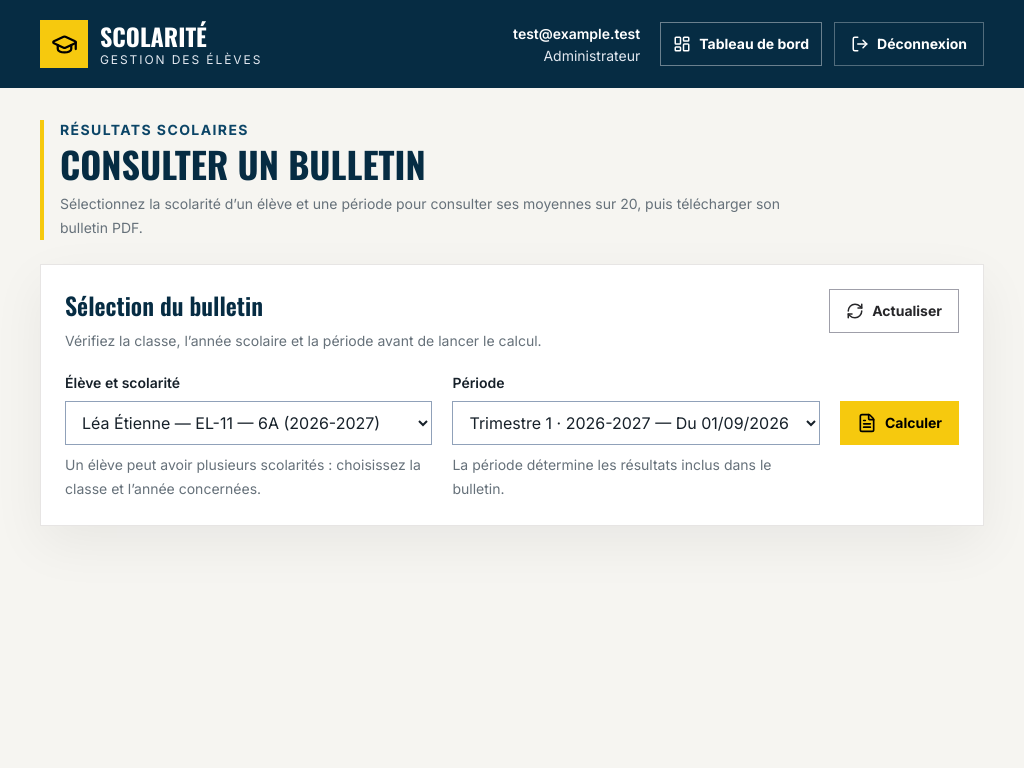
it: bulletins › affiche les valeurs absentes sans inventer de moyenne
The image size is (1024, 768).
Click the button "Calculer". click: (899, 423)
box: [840,401,959,445]
(page scrolled)
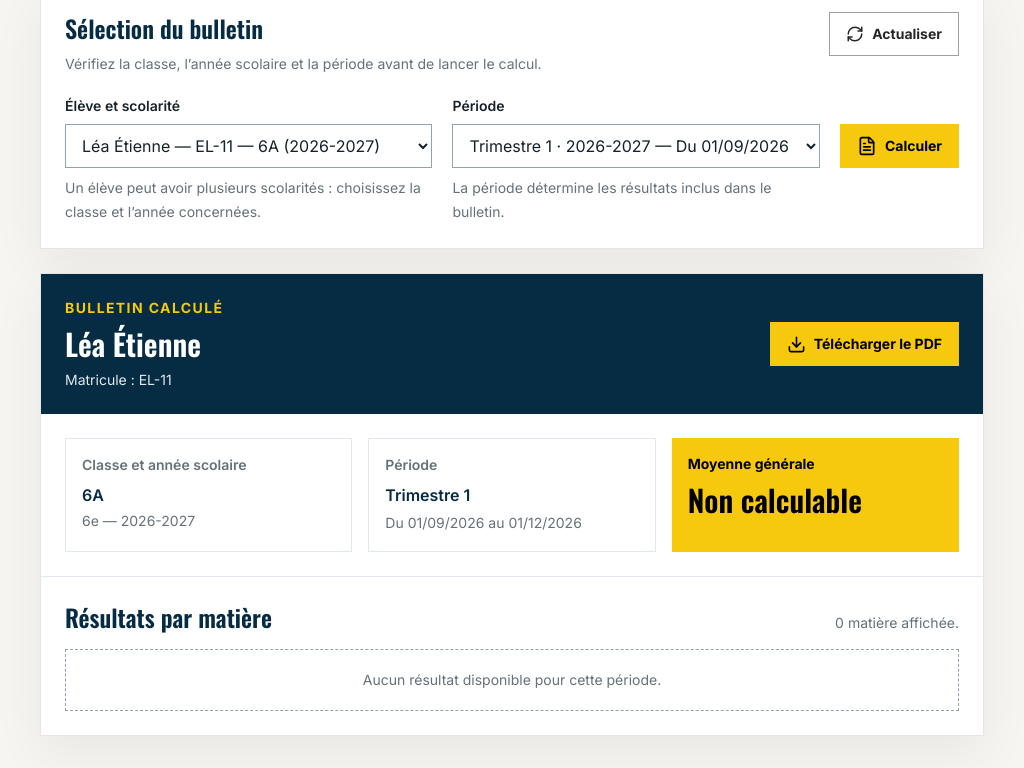
Check: the heading "Léa Étienne" is shown, box [65,326,224,362]
Check: the text "Non calculable" is shown, box [688,477,862,522]
Check: the text "Aucun résultat disponible pour cette période." is shown, box [65,649,959,711]
